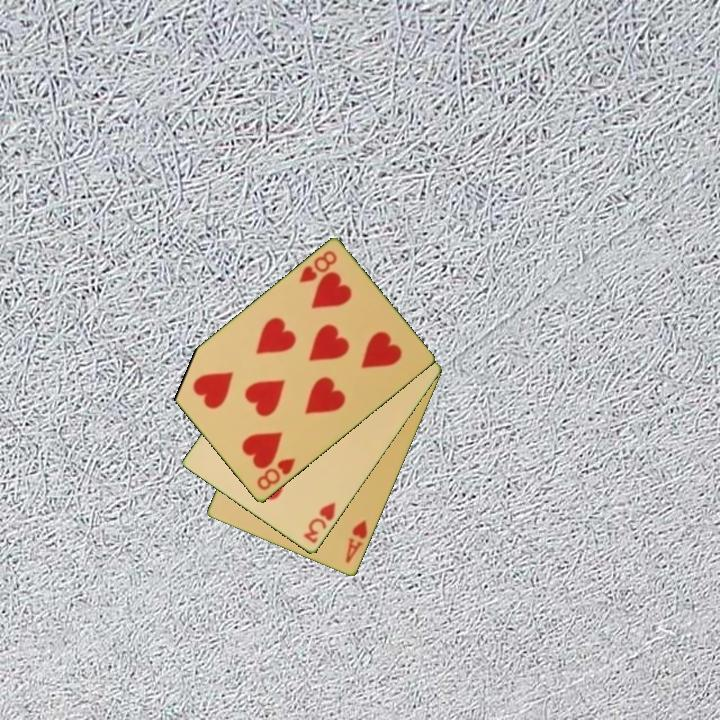3h: (300, 499, 339, 547)
8h: (253, 455, 298, 494), (296, 247, 340, 286)
Ah: (342, 517, 371, 566)
